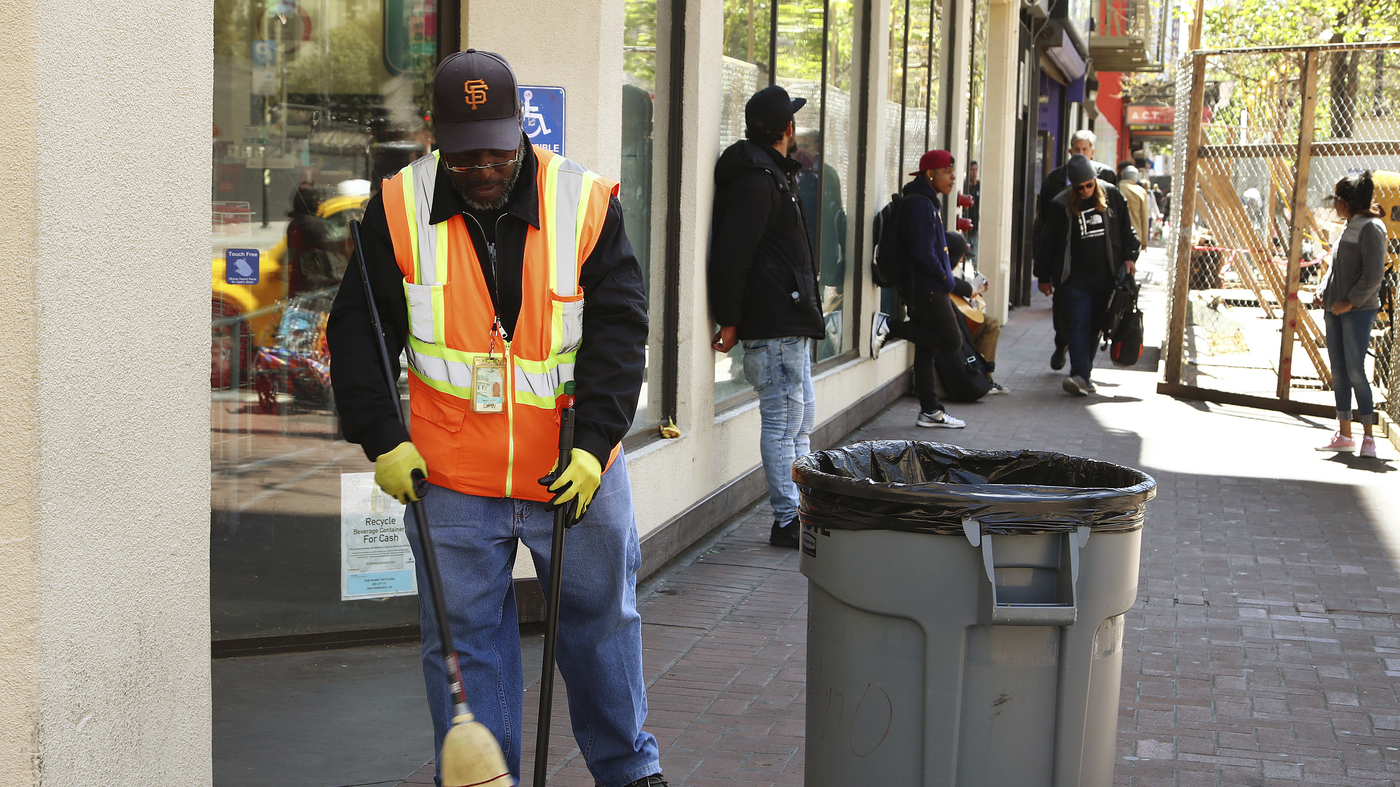person: (305, 43, 693, 787), (695, 73, 835, 556), (860, 137, 998, 436), (1294, 164, 1400, 460), (1037, 151, 1142, 395)
